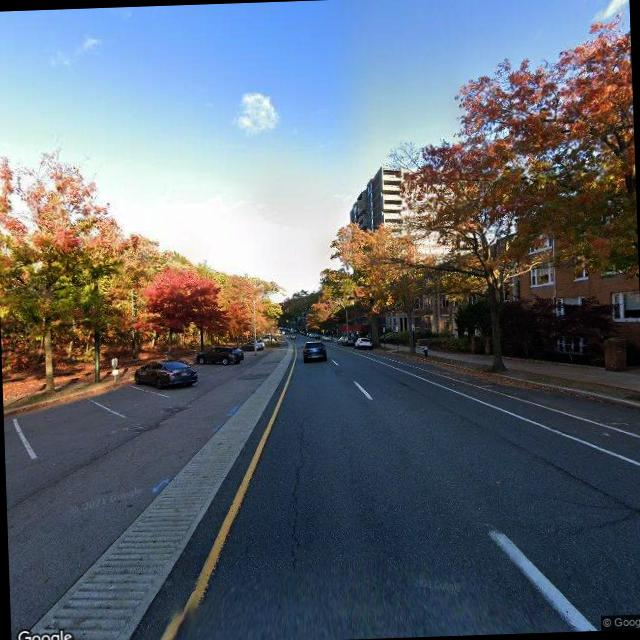pothole: (278, 418, 316, 570)
